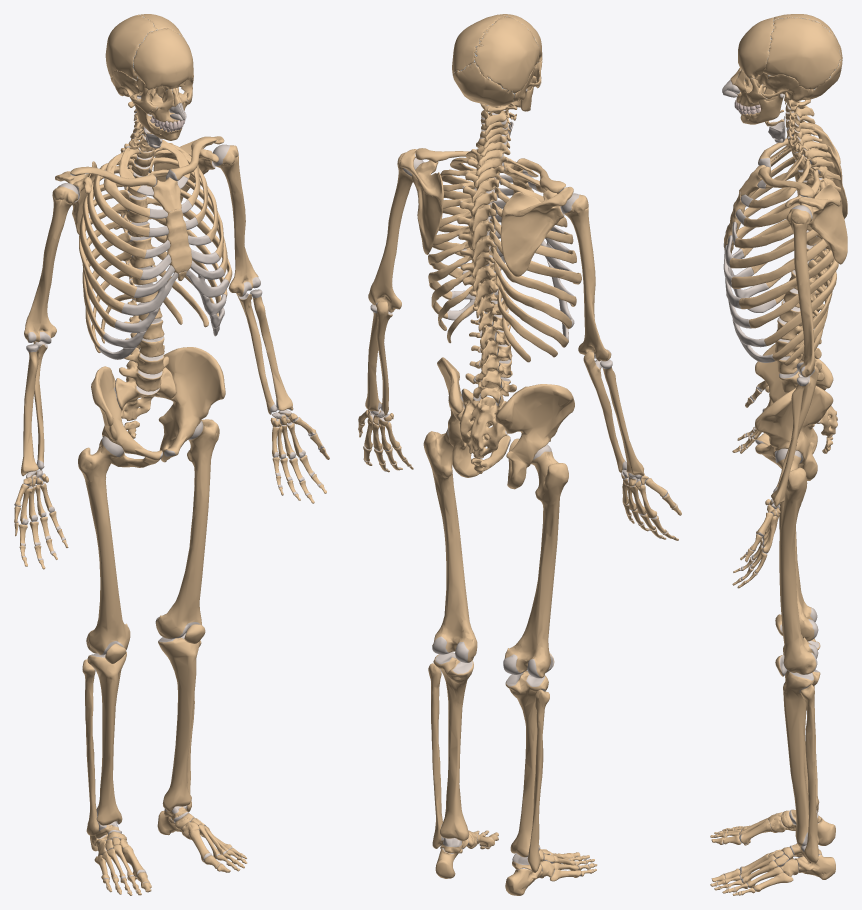
The model's file is skeletal.glb.
The picture shows the model from 3 angles, left to right: view 1: azimuth 30°, elevation 25°; view 2: azimuth 150°, elevation 25°; view 3: azimuth 270°, elevation 25°; orthographic projection. The views are drawn at different scales.
Visible parts, largest first — view 1: Femur.r, Femur.l, Hip bone.l, Tibia.l, Frontal bone, Tibia.r, Humerus.r, Humerus.l, Hip bone.r, Parietal bone.r, Sacrum, Fibula.r (+18 smaller); view 2: Femur.r, Femur.l, Hip bone.r, Scapula.r, Parietal bone.r, Tibia.l, Tibia.r, Humerus.r, Humerus.l, Hip bone.l, Scapula.l, Sacrum (+15 smaller); view 3: Femur.l, Parietal bone.l, Tibia.l, Hip bone.l, Humerus.l, Scapula.l, Fibula.l, Frontal bone, Hip bone.r, Radius.l, Femur.r, Seventh rib.l (+28 smaller).
Boxes of the visible parts, left/top/right/bottom form: Femur.r: left=78, top=436, right=130, bottom=655; Femur.l: left=155, top=419, right=219, bottom=639; Hip bone.l: left=158, top=347, right=225, bottom=462; Tibia.l: left=158, top=633, right=200, bottom=811; Frontal bone: left=133, top=28, right=193, bottom=91; Tibia.r: left=87, top=652, right=126, bottom=825; Humerus.r: left=24, top=183, right=78, bottom=344; Humerus.l: left=212, top=144, right=260, bottom=296; Hip bone.r: left=91, top=366, right=162, bottom=467; Parietal bone.r: left=105, top=15, right=157, bottom=79; Sacrum: left=115, top=367, right=175, bottom=420; Fibula.r: left=82, top=659, right=99, bottom=835; Femur.r: left=503, top=444, right=568, bottom=678; Femur.l: left=423, top=428, right=477, bottom=662; Hip bone.r: left=495, top=384, right=574, bottom=489; Scapula.r: left=500, top=187, right=573, bottom=276; Parietal bone.r: left=474, top=16, right=539, bottom=93; Tibia.l: left=433, top=652, right=473, bottom=840; Tibia.r: left=505, top=671, right=548, bottom=857; Humerus.r: left=561, top=193, right=611, bottom=361; Humerus.l: left=368, top=152, right=423, bottom=312; Hip bone.l: left=437, top=357, right=510, bottom=477; Scapula.l: left=400, top=149, right=443, bottom=254; Sacrum: left=459, top=388, right=507, bottom=458; Femur.l: left=775, top=448, right=818, bottom=674; Parietal bone.l: left=763, top=17, right=840, bottom=89; Tibia.l: left=783, top=669, right=820, bottom=846; Hip bone.l: left=755, top=386, right=833, bottom=480; Humerus.l: left=786, top=205, right=815, bottom=377; Scapula.l: left=785, top=183, right=847, bottom=264; Fibula.l: left=800, top=684, right=818, bottom=863; Frontal bone: left=738, top=17, right=774, bottom=78; Hip bone.r: left=755, top=343, right=833, bottom=453; Radius.l: left=771, top=377, right=808, bottom=506; Femur.r: left=779, top=470, right=818, bottom=641; Seventh rib.l: left=739, top=249, right=834, bottom=309.
Bounding box in the file's own units: 0.6692 × 1.7 × 0.2501.
